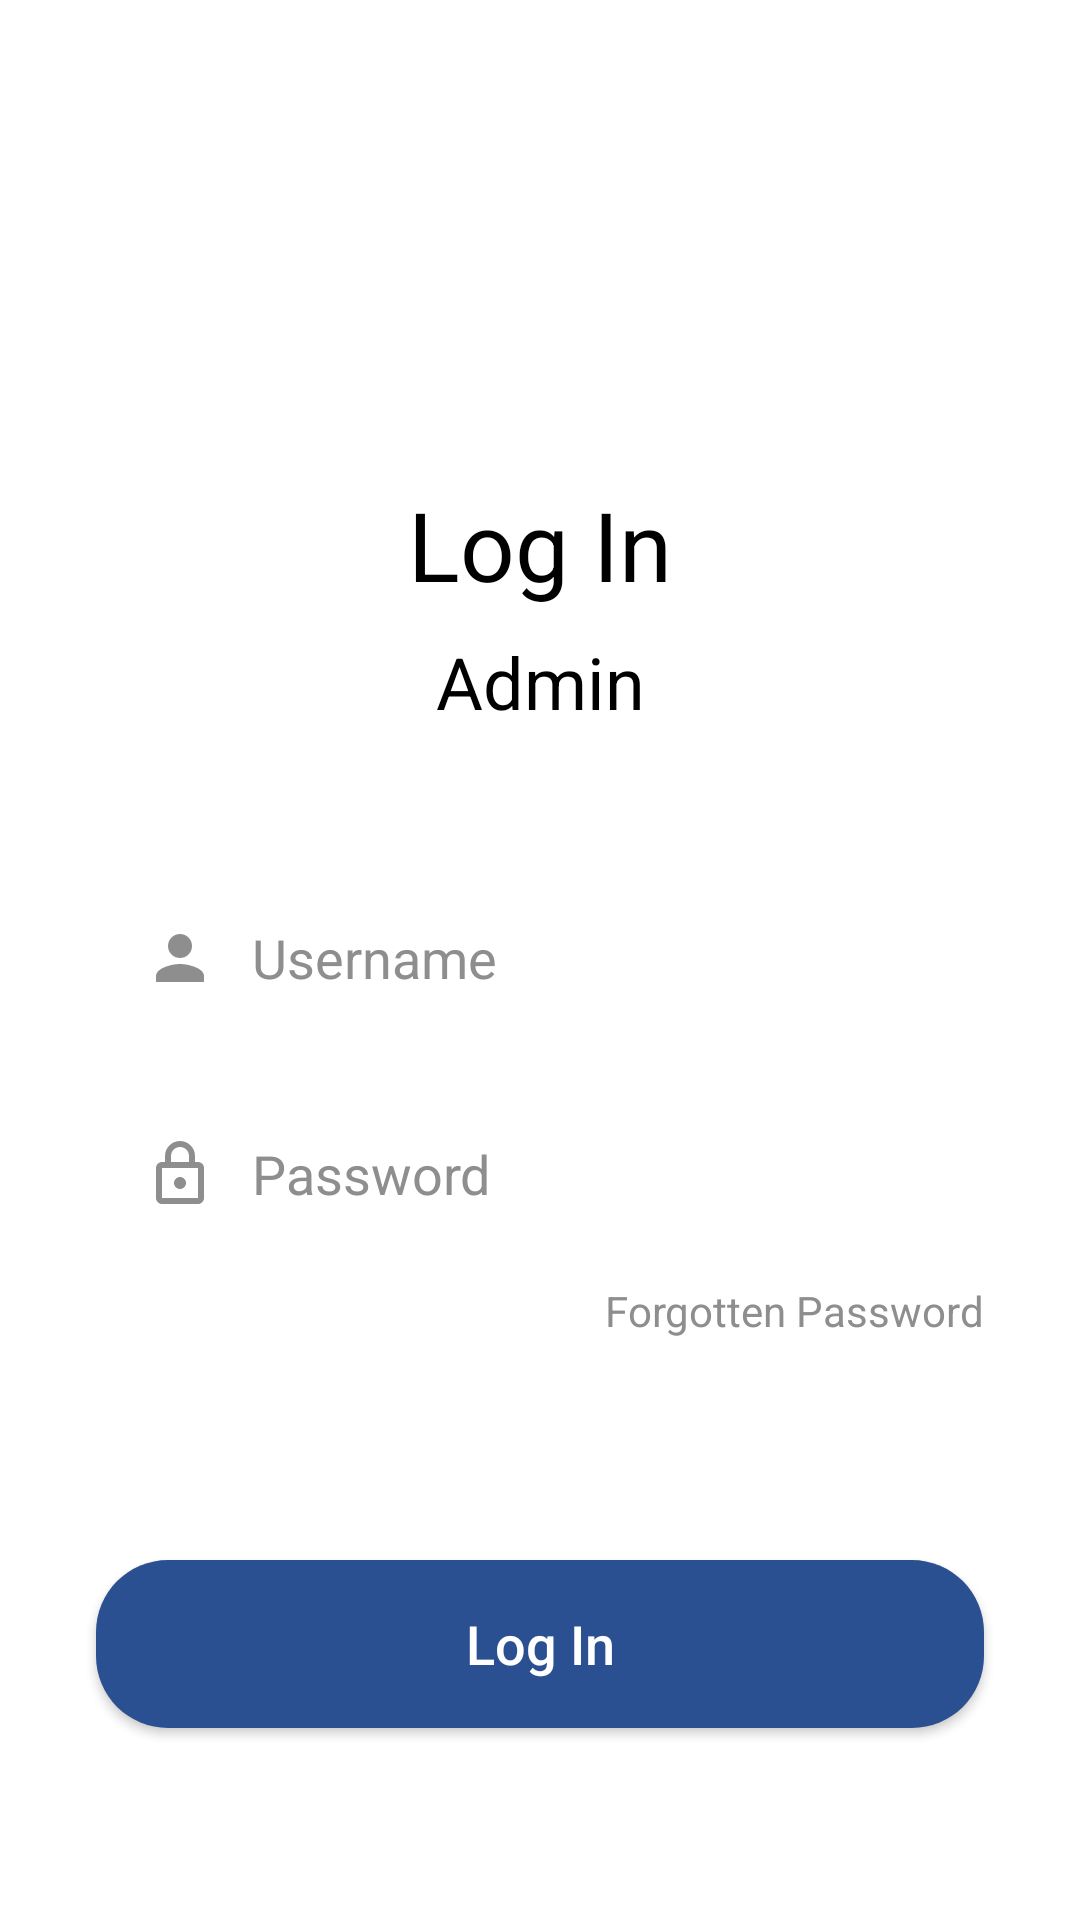

Point at icon controls on the screen. Image size 1080*1920, points as point (x, y).
lock: point (180, 1172)
person: point (180, 958)
